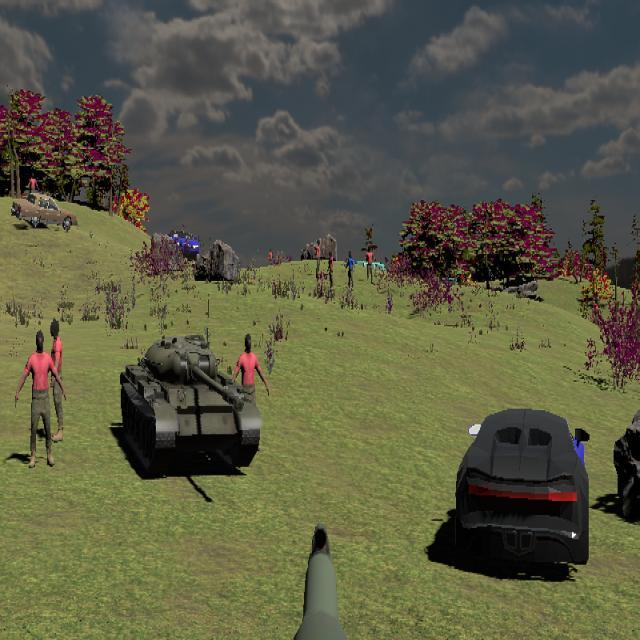Human: (14, 330, 65, 466), (228, 334, 269, 442), (45, 321, 66, 444), (48, 319, 65, 422)
Tank: (119, 333, 263, 476)
car: (455, 407, 592, 564), (10, 193, 76, 232)
